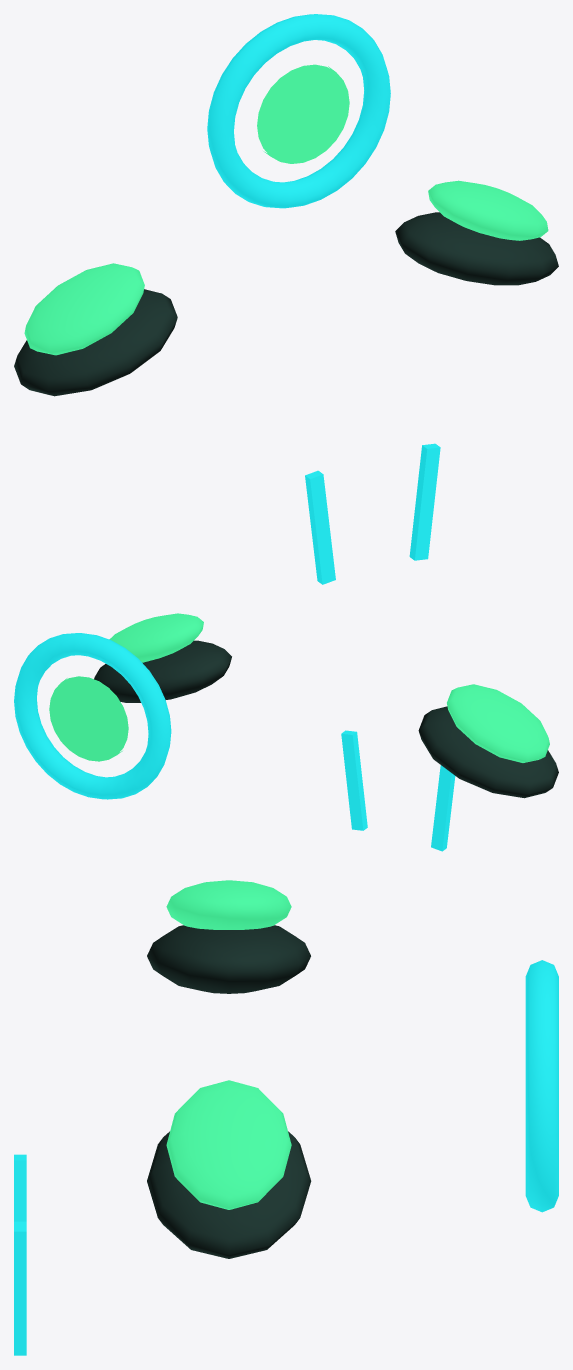
The model's file is avatar-verdejante-kit-estrategista.glb.
3 views of the same model, one above another, from view 1: azimuth 30°, elevation 25°; view 2: azimuth 150°, elevation 25°; view 3: azimuth 270°, elevation 25° (orthographic). The views are drawn at different scales.
Visible parts, largest first — view 1: kit_verdejante_estrategista_badgeOuter, kit_verdejante_estrategista_layerPlateAR, kit_verdejante_estrategista_layerPlateAL, kit_verdejante_estrategista_layerPlateBR, kit_verdejante_estrategista_badgeInner, kit_verdejante_estrategista_layerPlateBL, kit_verdejante_estrategista_planLine1, kit_verdejante_estrategista_planLine0; view 2: kit_verdejante_estrategista_badgeOuter, kit_verdejante_estrategista_layerPlateAR, kit_verdejante_estrategista_layerPlateBR, kit_verdejante_estrategista_badgeInner, kit_verdejante_estrategista_layerPlateAL, kit_verdejante_estrategista_layerPlateBL, kit_verdejante_estrategista_planLine1, kit_verdejante_estrategista_planLine0; view 3: kit_verdejante_estrategista_layerPlateBL, kit_verdejante_estrategista_layerPlateAL, kit_verdejante_estrategista_layerPlateAR, kit_verdejante_estrategista_badgeOuter, kit_verdejante_estrategista_layerPlateBR, kit_verdejante_estrategista_planLine1, kit_verdejante_estrategista_planLine0.
Boxes of the visible parts, left/top/right/bottom form: kit_verdejante_estrategista_badgeOuter: left=207, top=14, right=390, bottom=208; kit_verdejante_estrategista_layerPlateAR: left=14, top=289, right=177, bottom=396; kit_verdejante_estrategista_layerPlateAL: left=395, top=212, right=558, bottom=285; kit_verdejante_estrategista_layerPlateBR: left=24, top=263, right=144, bottom=355; kit_verdejante_estrategista_badgeInner: left=257, top=64, right=349, bottom=163; kit_verdejante_estrategista_layerPlateBL: left=428, top=180, right=548, bottom=240; kit_verdejante_estrategista_planLine1: left=409, top=443, right=440, bottom=560; kit_verdejante_estrategista_planLine0: left=305, top=470, right=335, bottom=584; kit_verdejante_estrategista_badgeOuter: left=14, top=633, right=171, bottom=799; kit_verdejante_estrategista_layerPlateAR: left=418, top=706, right=558, bottom=798; kit_verdejante_estrategista_layerPlateBR: left=447, top=684, right=549, bottom=762; kit_verdejante_estrategista_badgeInner: left=49, top=676, right=128, bottom=761; kit_verdejante_estrategista_layerPlateAL: left=94, top=640, right=231, bottom=702; kit_verdejante_estrategista_layerPlateBL: left=109, top=613, right=203, bottom=662; kit_verdejante_estrategista_planLine1: left=341, top=730, right=367, bottom=830; kit_verdejante_estrategista_planLine0: left=431, top=765, right=455, bottom=851; kit_verdejante_estrategista_layerPlateBL: left=166, top=1080, right=291, bottom=1209; kit_verdejante_estrategista_layerPlateAL: left=147, top=1131, right=311, bottom=1258; kit_verdejante_estrategista_layerPlateAR: left=147, top=925, right=310, bottom=993; kit_verdejante_estrategista_badgeOuter: left=525, top=960, right=558, bottom=1212; kit_verdejante_estrategista_layerPlateBR: left=166, top=880, right=291, bottom=929; kit_verdejante_estrategista_planLine1: left=14, top=1221, right=26, bottom=1355; kit_verdejante_estrategista_planLine0: left=14, top=1154, right=26, bottom=1221.
Bounding box in the file's own units: 0.7106 × 0.4616 × 0.522.
